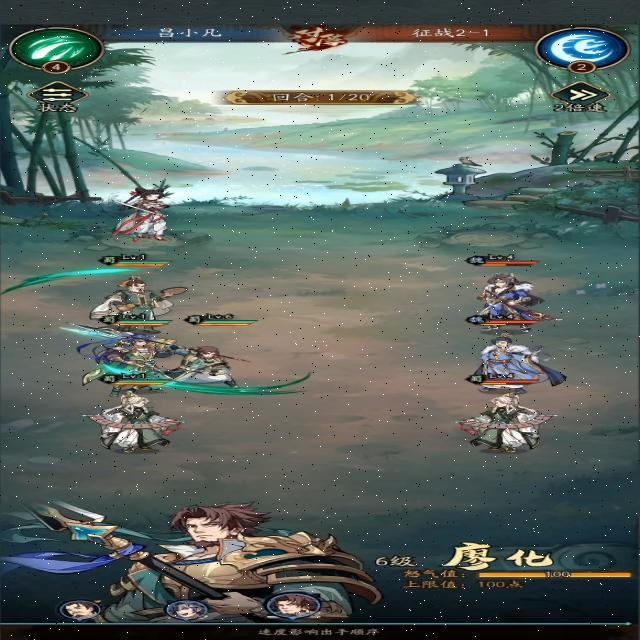hint-guide: (253, 625, 398, 638)
